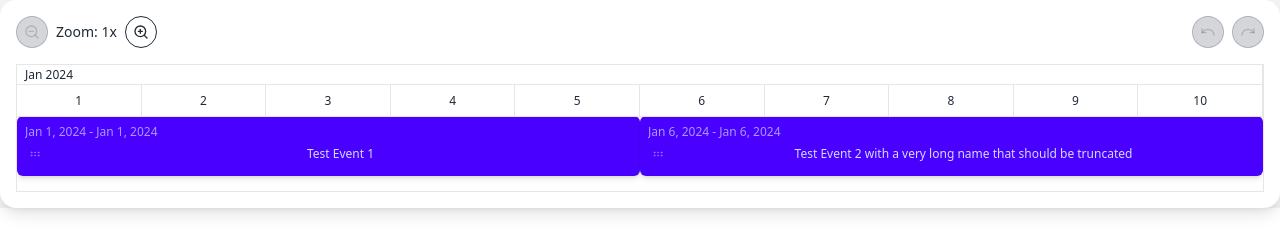
Test: Timeline Component › Event Editing › should allow editing event name on double click
Double-click the text "Test Event 1" at (341, 154), box [307,145,374,162]
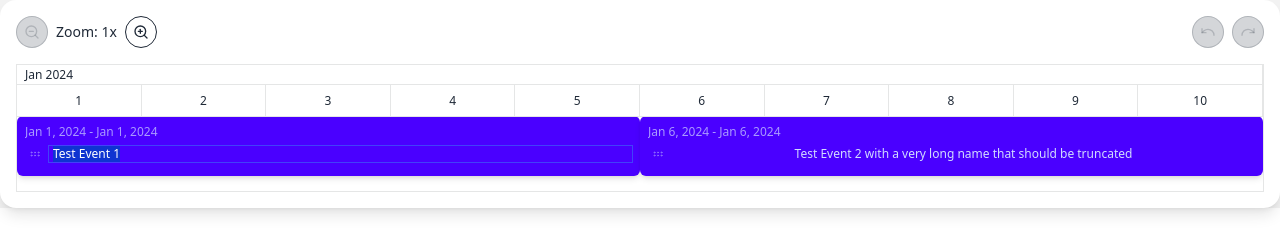
Expected: the field showing "Test Event 1" is shown, [49,146,632,162]
